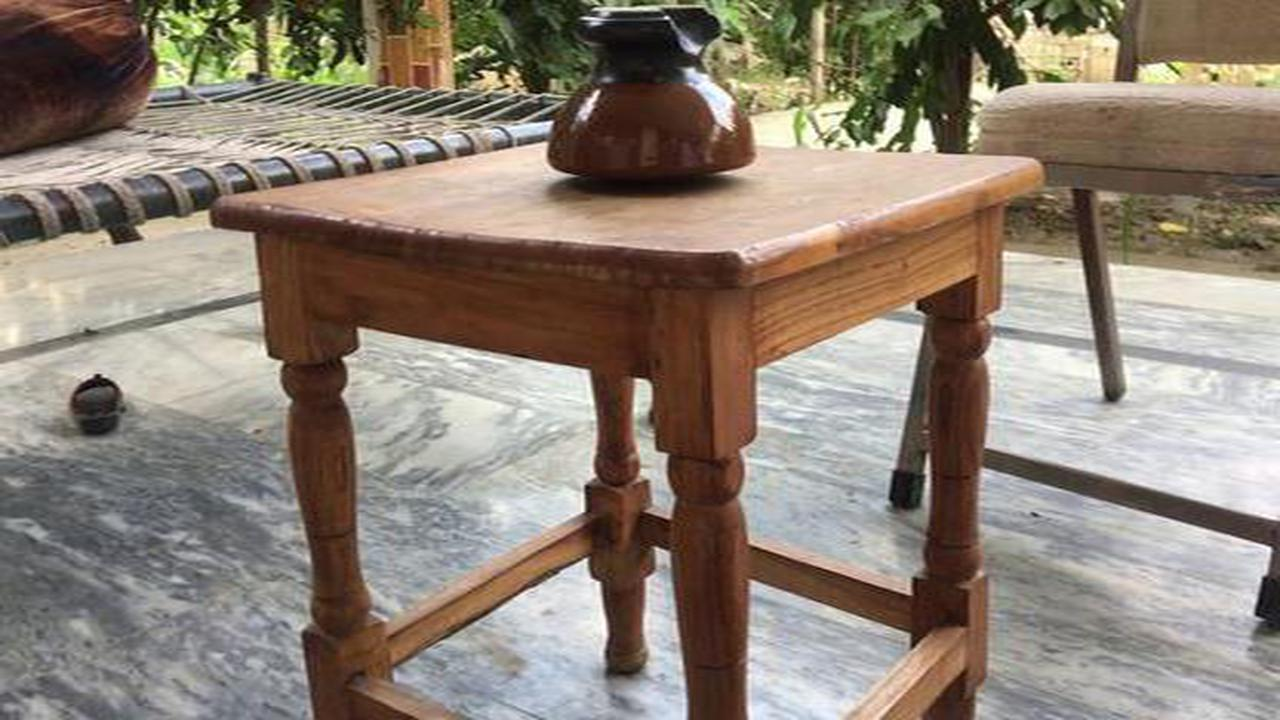insulator_pin: (536, 3, 782, 212)
